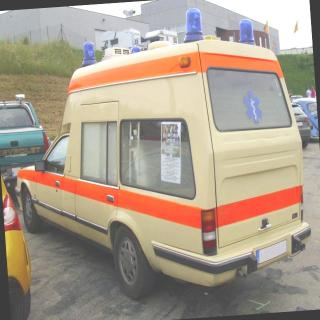Ambulance: (15, 0, 316, 304)
